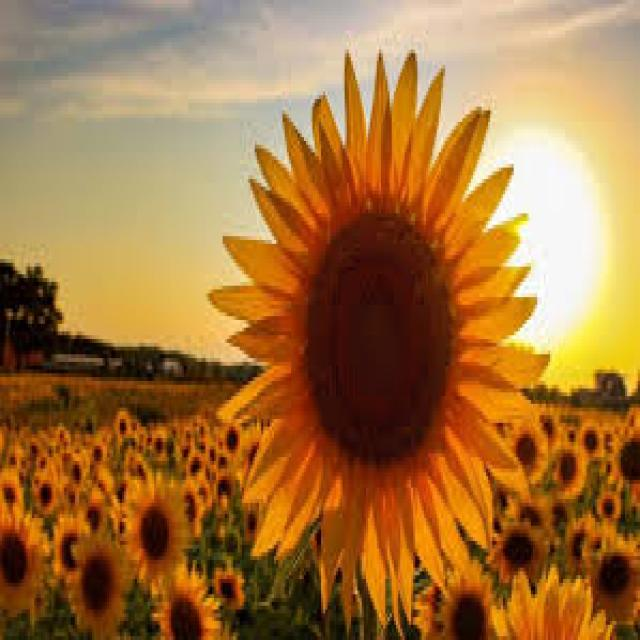sunflower: (211, 34, 540, 640), (120, 466, 195, 604), (0, 501, 49, 634), (66, 534, 132, 632), (152, 566, 223, 640), (439, 567, 501, 640), (552, 435, 585, 499), (576, 415, 610, 465)
